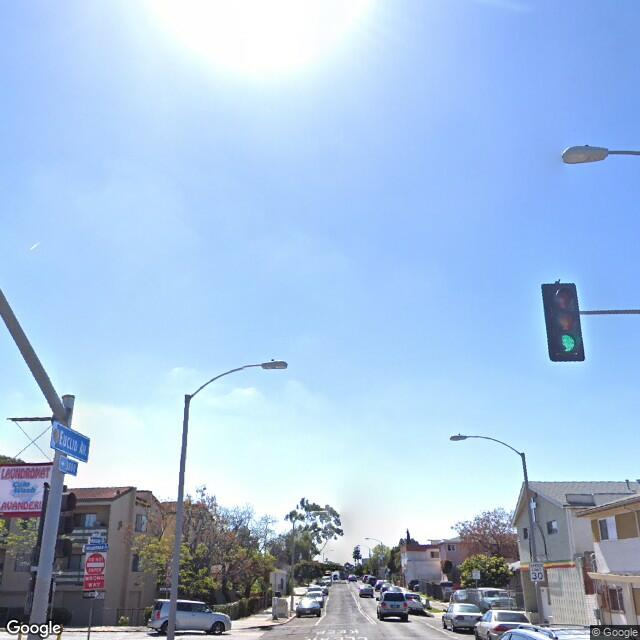light: (558, 145, 611, 166), (259, 359, 287, 372)
window: (595, 512, 619, 544)
